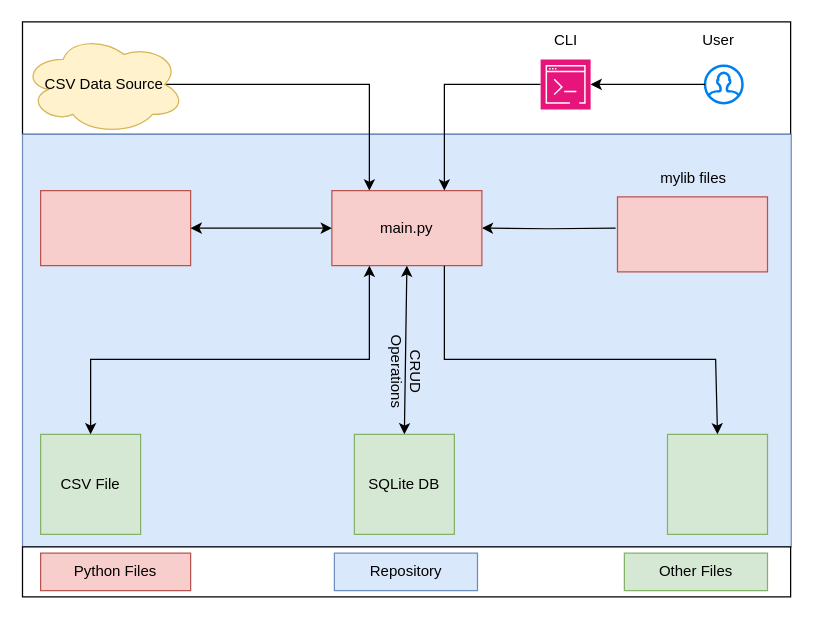
Some shapes in this 813 by 619 pixel diagram are drawn without their labels. Each missing label, with the box of its shape:
Create, Read, Update, Delete, logs, data_csv: (616, 196, 768, 272)
Query Log: (666, 433, 768, 534)
test_main.py: (39, 189, 191, 266)
